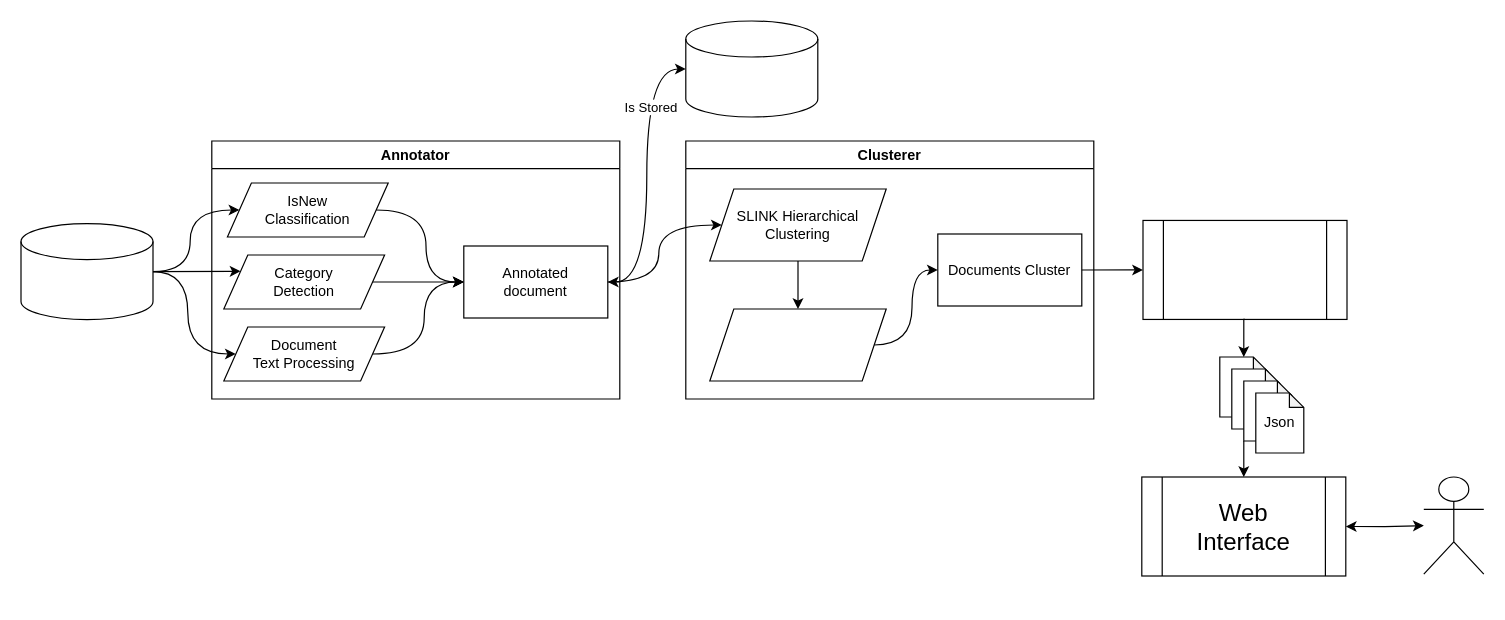
Some shapes in this 1505 by 620 pixel diagram are drawn without their labels. The centre of each missing label's shape, as x and y in pixels:
"Annotated documents" goes at point 751,68.
"Cluster Summarisation" goes at point 797,344.
"Ranker" goes at point 1244,269.
"Raw documents" goes at point 86,271.
"User" goes at point 1453,525.
